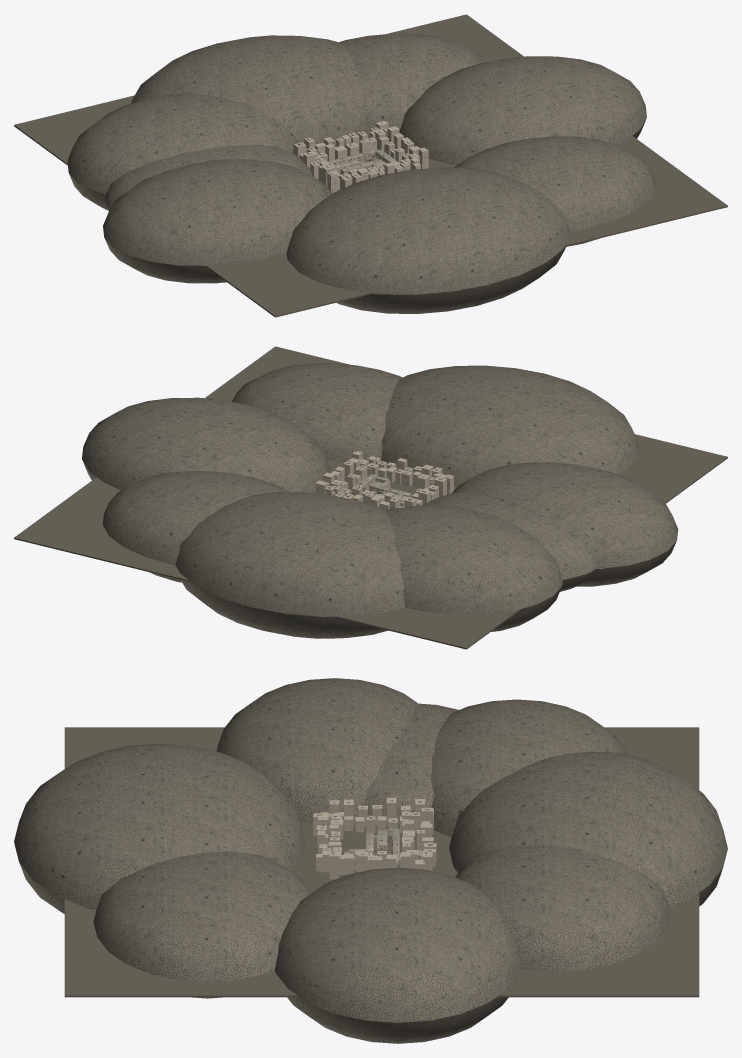
The model's file is de_dust2.glb.
The picture shows the model from 3 angles, top to bottom: view 1: azimuth 30°, elevation 25°; view 2: azimuth 150°, elevation 25°; view 3: azimuth 270°, elevation 25°; orthographic projection. The views are drawn at different scales.
Parts seen in each view (by area): view 1: MAP_hills, MAP_bg_plaster, MAP_trim_concrete; view 2: MAP_hills, MAP_bg_plaster; view 3: MAP_hills, MAP_bg_plaster, MAP_trim_concrete.
Boxes of the visible parts, x1,y1,x2,y2 form: MAP_hills: (14,14,727,317); MAP_bg_plaster: (293,121,428,192); MAP_trim_concrete: (327,149,399,171); MAP_hills: (14,346,727,649); MAP_bg_plaster: (315,451,453,509); MAP_hills: (14,678,727,1043); MAP_bg_plaster: (313,797,436,879); MAP_trim_concrete: (344,829,399,859).
Bounding box in the file's own units: 970 × 180 × 900.
Materials: 35 (23 with a texture image).
